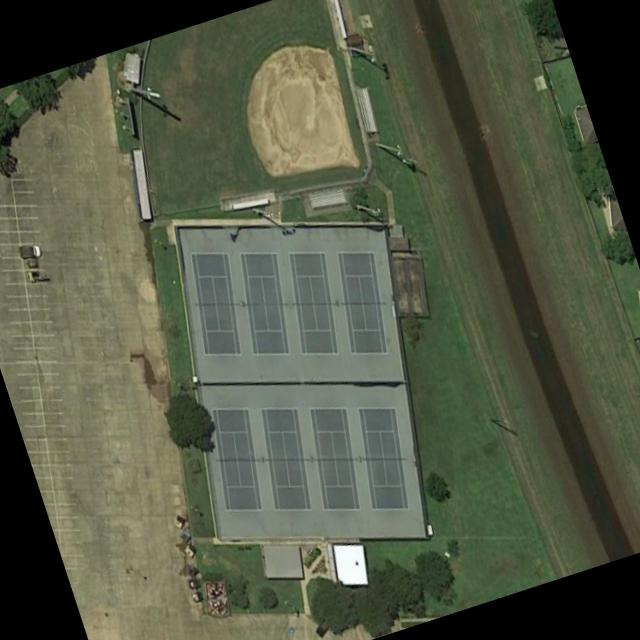small-vehicle: (17, 244, 41, 258)
